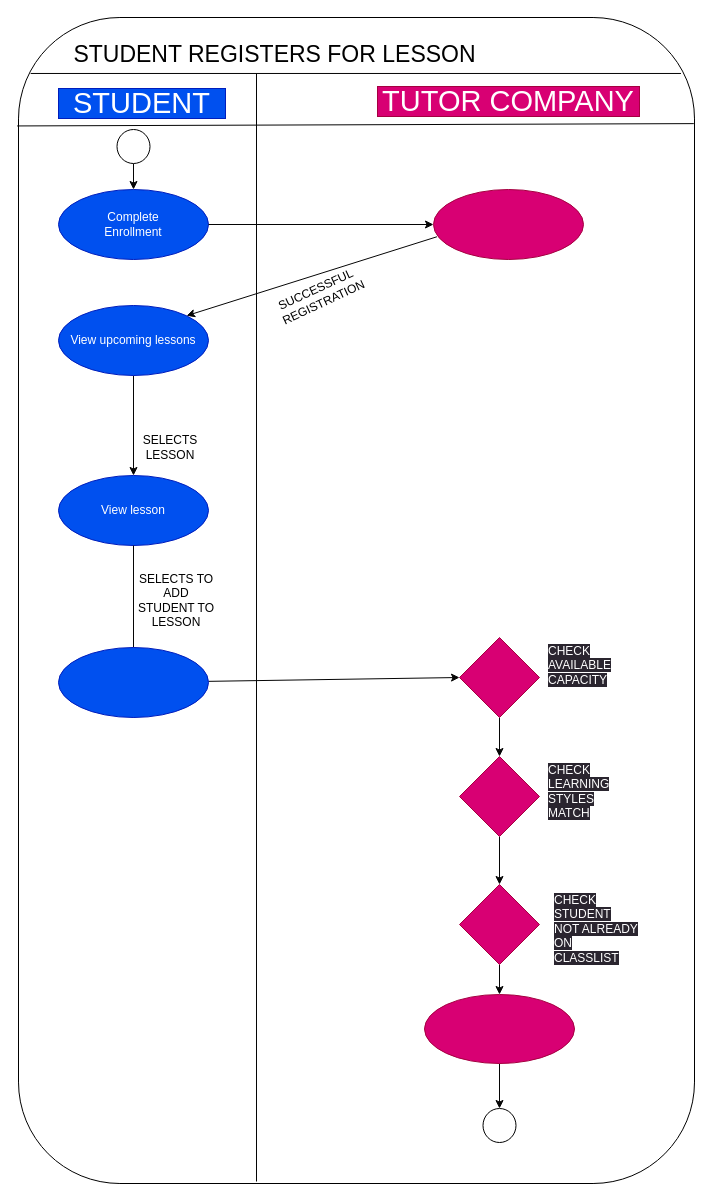
Image size: 713x1201. Some labels were removed from this diagram. Here are the shapes that lost their labels. From the top down, the centre of each, then its label:
(x=508, y=224): Create Student
(x=133, y=682): Book student into lesson
(x=499, y=1029): ADD STUDENT TO CLASSLIST
